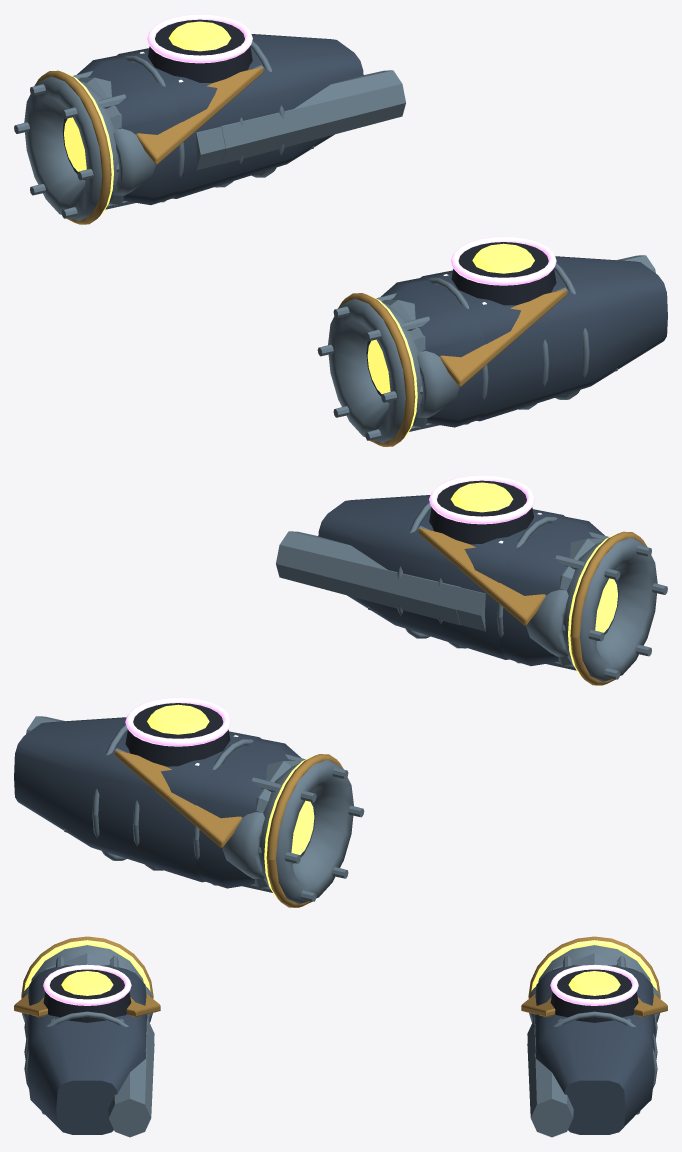
The model's file is engine.glb.
The picture shows the model from 3 angles, top to bottom: view 1: azimuth 30°, elevation 25°; view 2: azimuth 150°, elevation 25°; view 3: azimuth 270°, elevation 25°; orthographic projection. The views are drawn at different scales.
Parts seen in each view (by area): view 1: e_twin Fitting gunmetal, e_nova Brushed fitting edges, e_twin Brushed fitting edges, e_nova Fitting gunmetal, e_nova Champagne gold edging, e_fusion Machined graphite, e_fusion e_fusion emitter, e_fusion Fusion amber core, e_ion Brushed fitting edges, e_nova e_nova emitter, e_fusion Brushed fitting edges; view 2: e_twin Fitting gunmetal, e_nova Brushed fitting edges, e_twin Brushed fitting edges, e_nova Fitting gunmetal, e_nova Champagne gold edging, e_fusion Machined graphite, e_fusion e_fusion emitter, e_fusion Fusion amber core, e_ion Brushed fitting edges, e_nova e_nova emitter, e_fusion Brushed fitting edges; view 3: e_twin Fitting gunmetal, e_twin Brushed fitting edges, e_fusion Machined graphite, e_nova Champagne gold edging, e_nova Brushed fitting edges, e_fusion e_fusion emitter, e_fusion Fusion amber core, e_nova e_nova emitter, e_ion Brushed fitting edges, e_nova Fitting gunmetal, e_fusion Brushed fitting edges.
Boxes of the visible parts, x1,y1,x2,y2 form: e_twin Fitting gunmetal: (116, 34, 667, 421); e_nova Brushed fitting edges: (14, 71, 439, 443); e_twin Brushed fitting edges: (113, 65, 655, 417); e_nova Fitting gunmetal: (62, 56, 485, 427); e_nova Champagne gold edging: (34, 67, 567, 446); e_fusion Machined graphite: (148, 19, 556, 305); e_fusion e_fusion emitter: (147, 14, 556, 285); e_fusion Fusion amber core: (168, 21, 534, 273); e_ion Brushed fitting edges: (124, 40, 589, 424); e_nova e_nova emitter: (63, 72, 417, 437); e_fusion Brushed fitting edges: (78, 77, 617, 427); e_twin Fitting gunmetal: (14, 495, 565, 882); e_nova Brushed fitting edges: (242, 532, 667, 904); e_twin Brushed fitting edges: (26, 526, 568, 878); e_nova Fitting gunmetal: (196, 517, 619, 888); e_nova Champagne gold edging: (114, 528, 647, 907); e_fusion Machined graphite: (125, 480, 533, 766); e_fusion e_fusion emitter: (125, 475, 534, 746); e_fusion Fusion amber core: (147, 482, 513, 734); e_ion Brushed fitting edges: (92, 501, 557, 885); e_nova e_nova emitter: (264, 533, 618, 898); e_fusion Brushed fitting edges: (64, 538, 603, 888); e_twin Fitting gunmetal: (26, 982, 655, 1134); e_twin Brushed fitting edges: (22, 986, 659, 1137); e_fusion Machined graphite: (43, 969, 638, 1022); e_nova Champagne gold edging: (14, 936, 667, 1017); e_nova Brushed fitting edges: (31, 945, 650, 1042); e_fusion e_fusion emitter: (43, 964, 638, 1005); e_fusion Fusion amber core: (61, 971, 620, 995); e_nova e_nova emitter: (24, 940, 657, 991); e_ion Brushed fitting edges: (24, 1011, 657, 1088); e_nova Fitting gunmetal: (28, 965, 653, 999); e_fusion Brushed fitting edges: (41, 953, 640, 1114).
Bounding box in the file's own units: 15.81 × 7.34 × 33.52.
